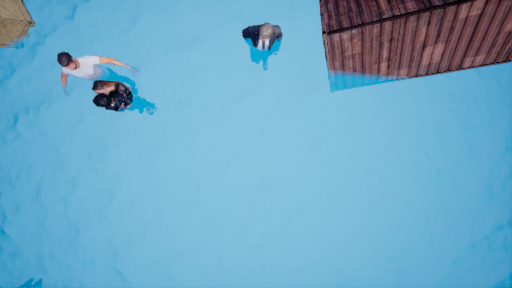person: (53, 51, 163, 120), (225, 18, 295, 72)
